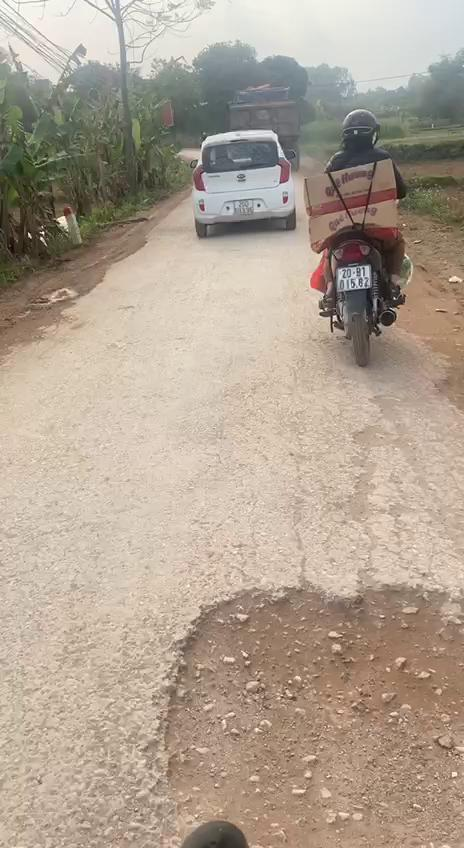pothole: (137, 569, 464, 848), (340, 423, 405, 532)
